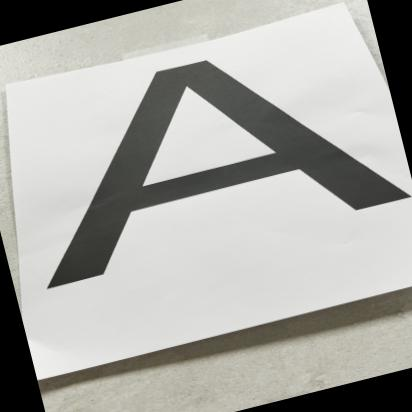seat: (0, 5, 412, 308)
